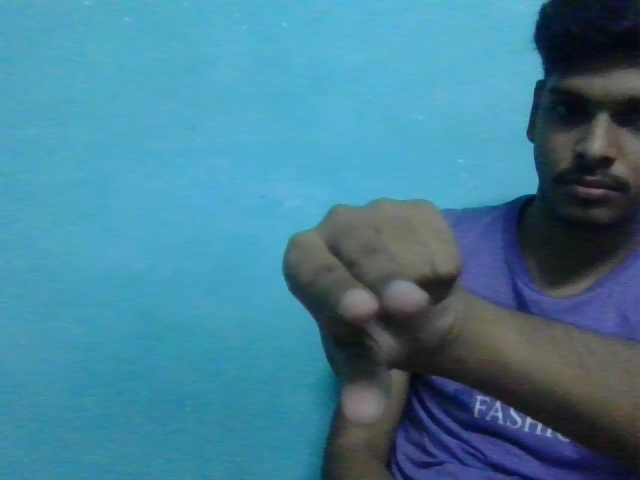no: (279, 195, 475, 422)
